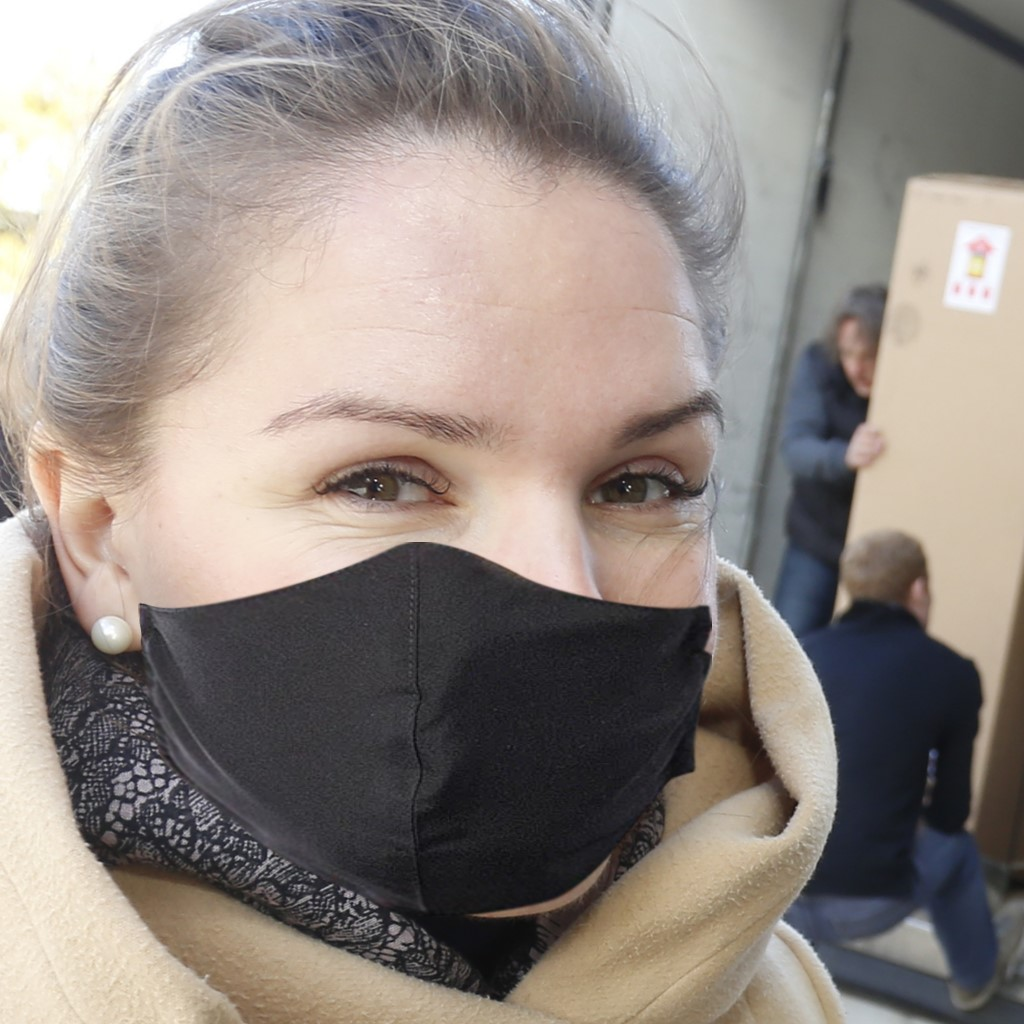con_mascara: (99, 98, 705, 926)
